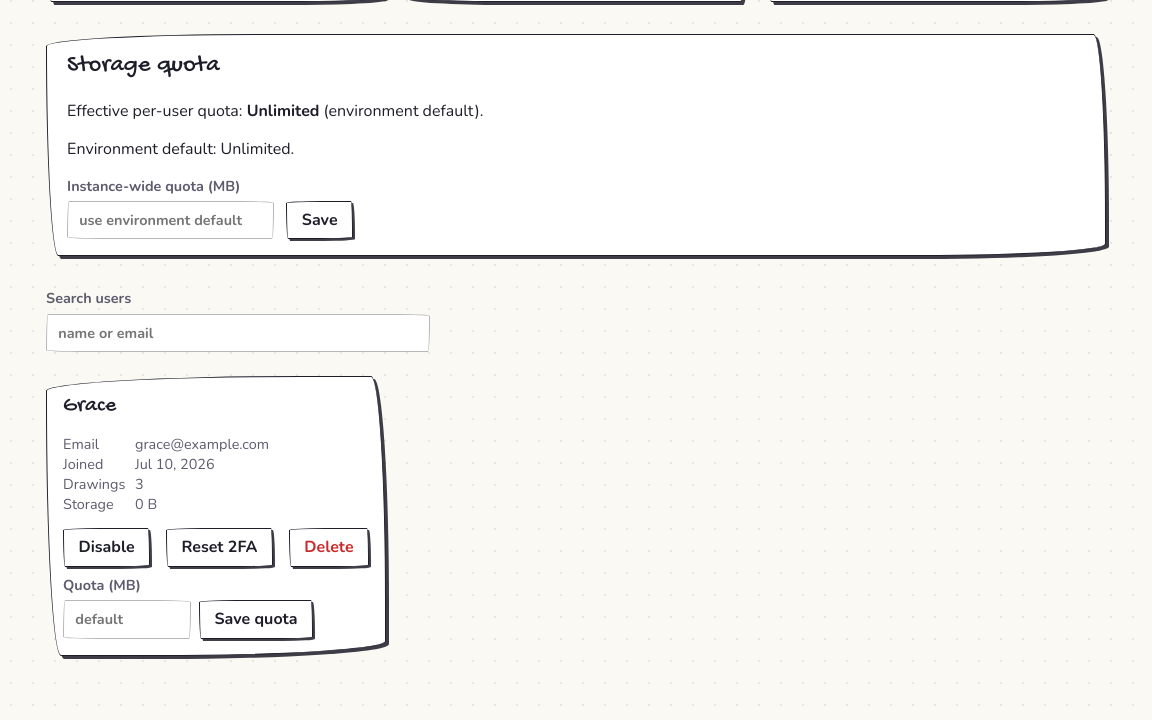
Scenario: AdminPage › resets two-factor for an enrolled user only after confirmation
(page scrolled)
What coordinates should you click on to do the following:
click the button "Reset 2FA"
I would click on:
 (220, 548)
Its box is x1=166 y1=528 x2=273 y2=567.
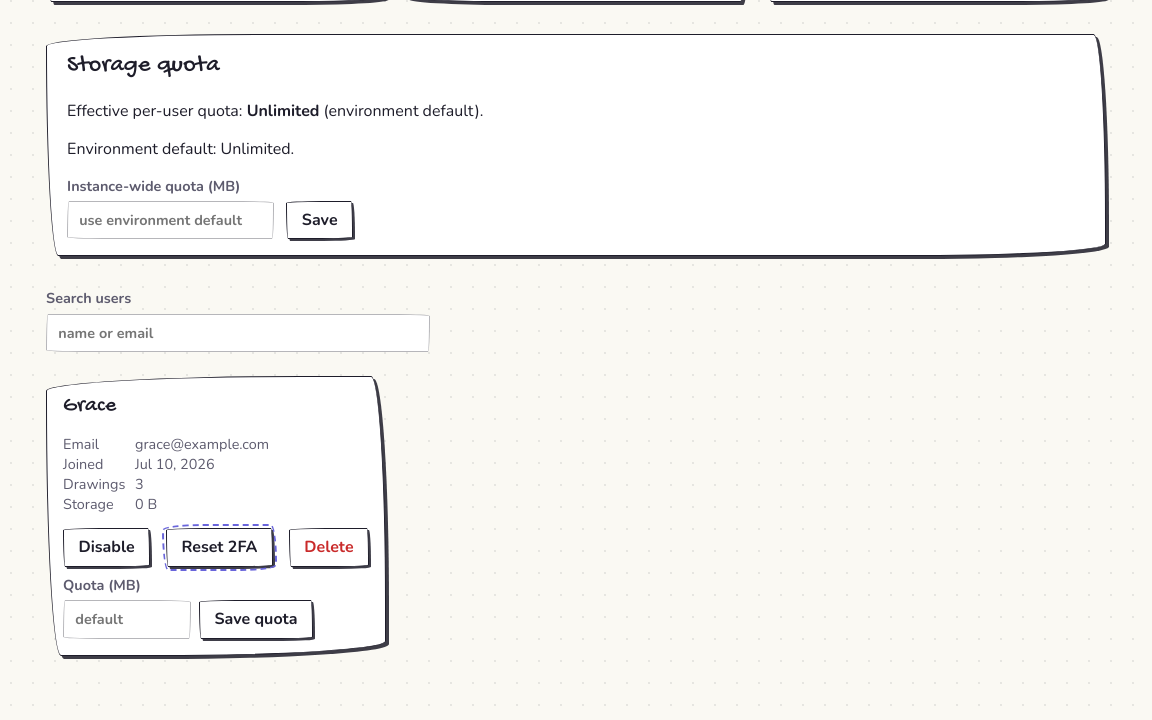
What coordinates should you click on to do the following:
click the button "Reset 2FA"
I would click on:
 (220, 548)
Its box is x1=166 y1=528 x2=273 y2=567.
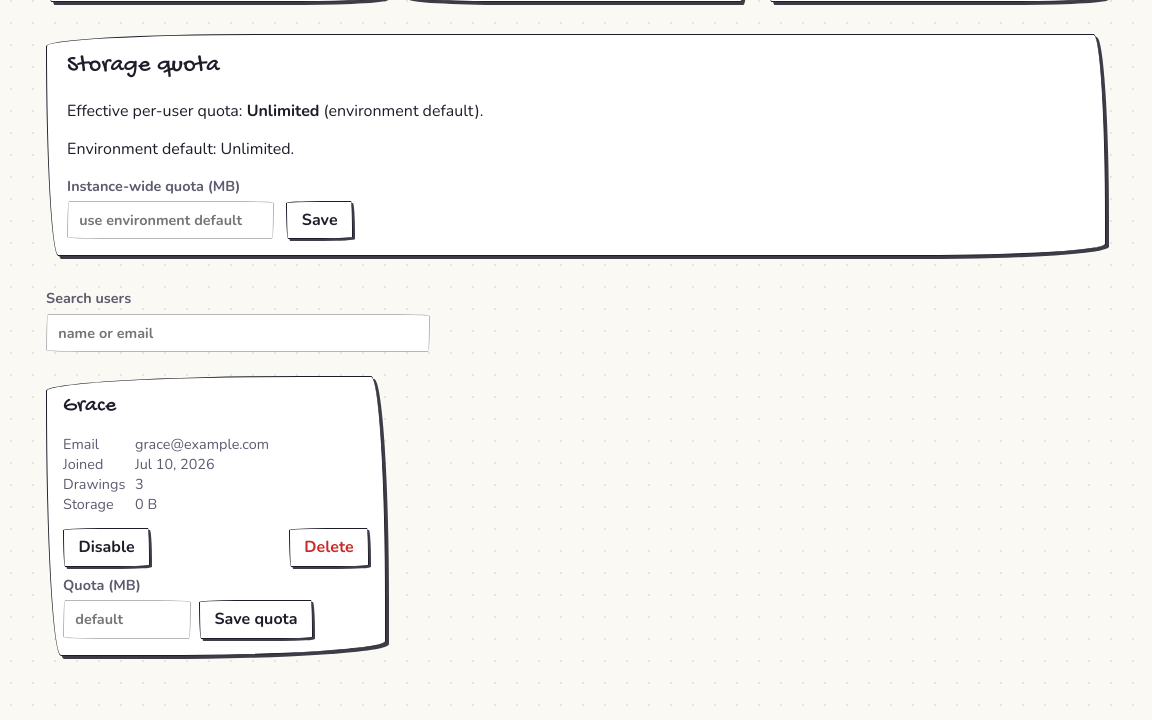
Expected: the button "Reset 2FA" is gone
